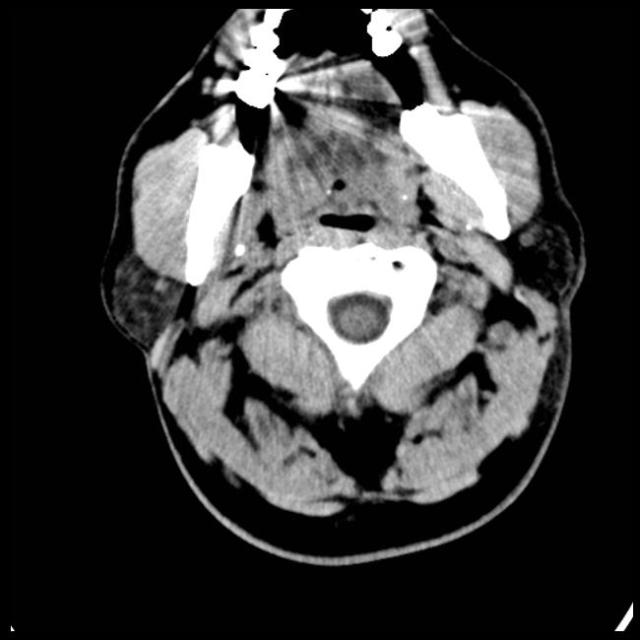lesion: (98, 5, 589, 557)
